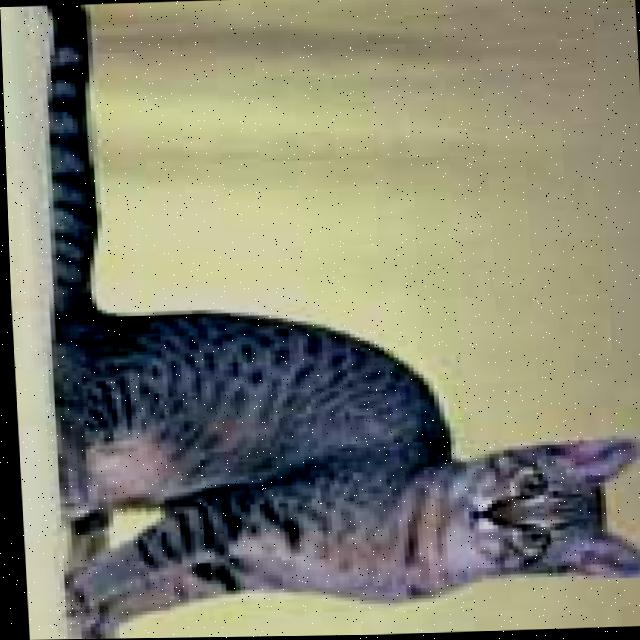Egyptian Mau: (27, 0, 640, 640)
